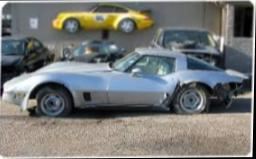Bumper: (214, 83, 246, 111)
Door: (131, 73, 177, 110)
Fender: (176, 71, 248, 86)
